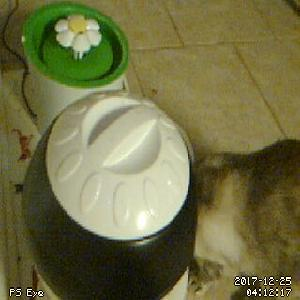cat: (187, 137, 300, 300)
fountain: (21, 3, 131, 91)
